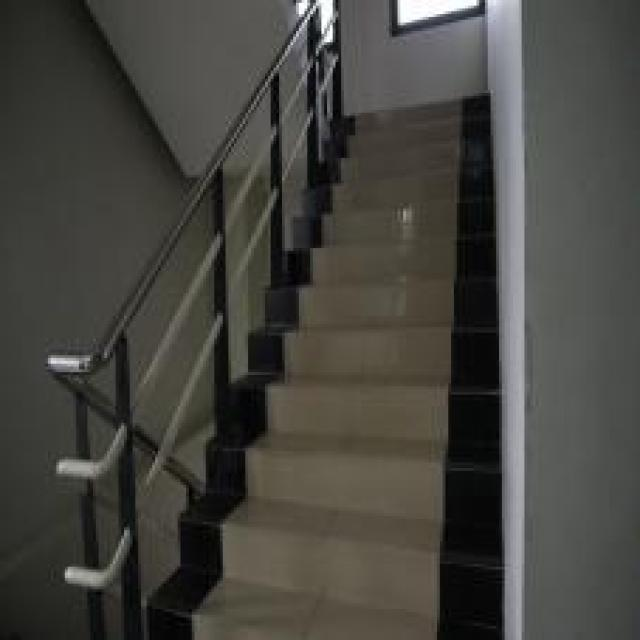upstair: (331, 103, 500, 638)
